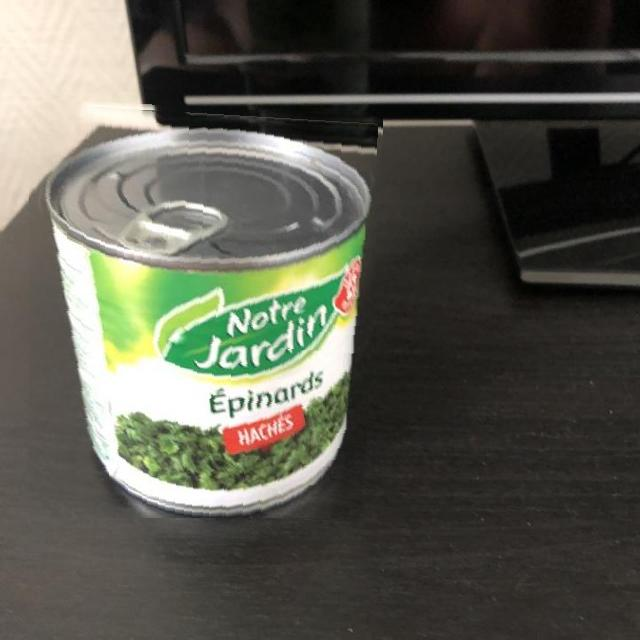recyclable: (29, 103, 378, 518)
